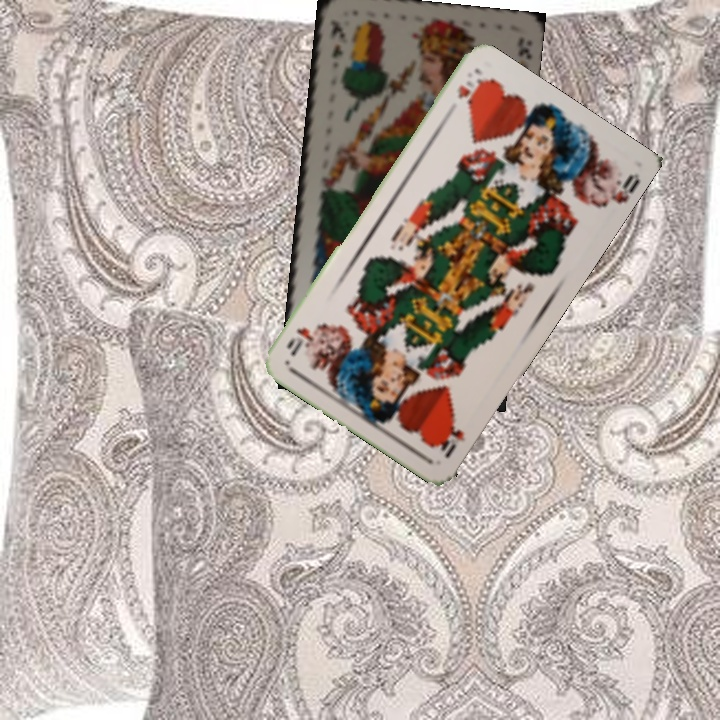EK: (326, 16, 347, 62)
HO: (432, 415, 469, 461), (453, 74, 485, 106)
